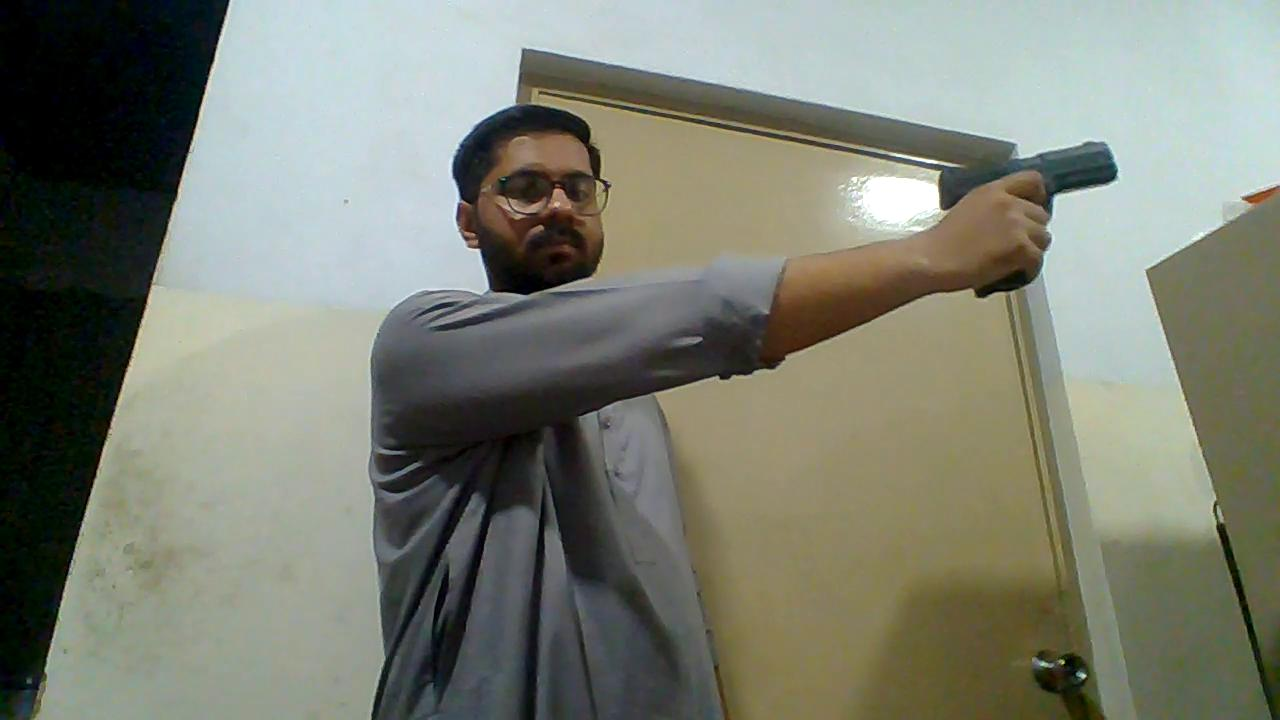criminal: (366, 102, 1124, 720)
weapon: (937, 137, 1123, 215)
